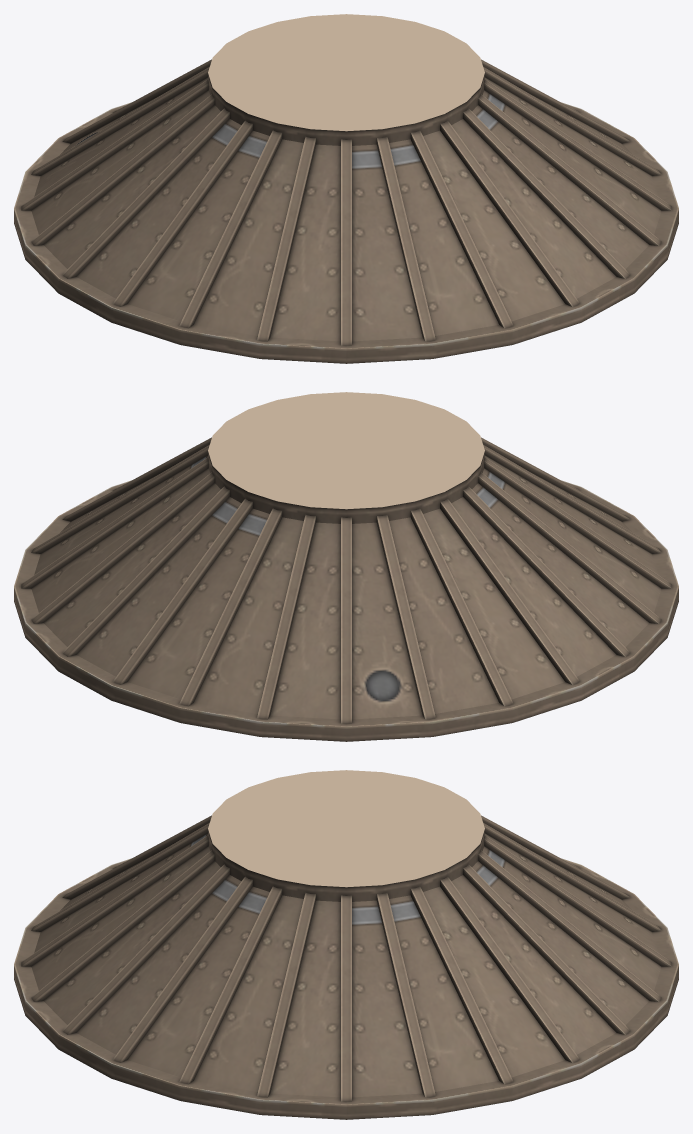
The model's file is payload.obj.
3 views of the same model, one above another, from view 1: azimuth 30°, elevation 25°; view 2: azimuth 150°, elevation 25°; view 3: azimuth 270°, elevation 25° (orthographic).
Visible parts, largest first — view 1: s0_s0_auv, s0_default; view 2: s0_s0_auv, s0_default; view 3: s0_s0_auv, s0_default.
Boxes of the visible parts, left/top/right/bottom form: s0_s0_auv: left=14, top=59, right=678, bottom=363; s0_default: left=208, top=14, right=484, bottom=131; s0_s0_auv: left=14, top=437, right=678, bottom=741; s0_default: left=208, top=392, right=484, bottom=509; s0_s0_auv: left=14, top=815, right=678, bottom=1119; s0_default: left=208, top=770, right=484, bottom=887.
Size of the model in its own units: 1.5 by 0.375 by 1.5.
Materials: 2 (1 with a texture image).
